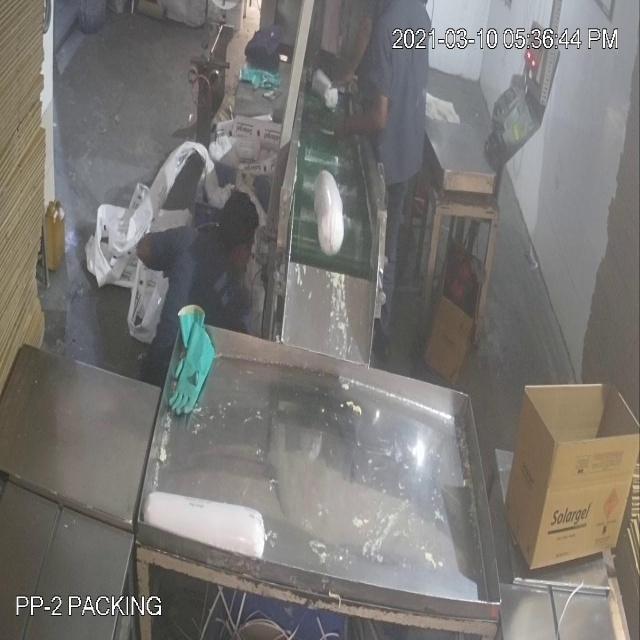Sin_guantes: (324, 11, 380, 98), (330, 91, 391, 152)
